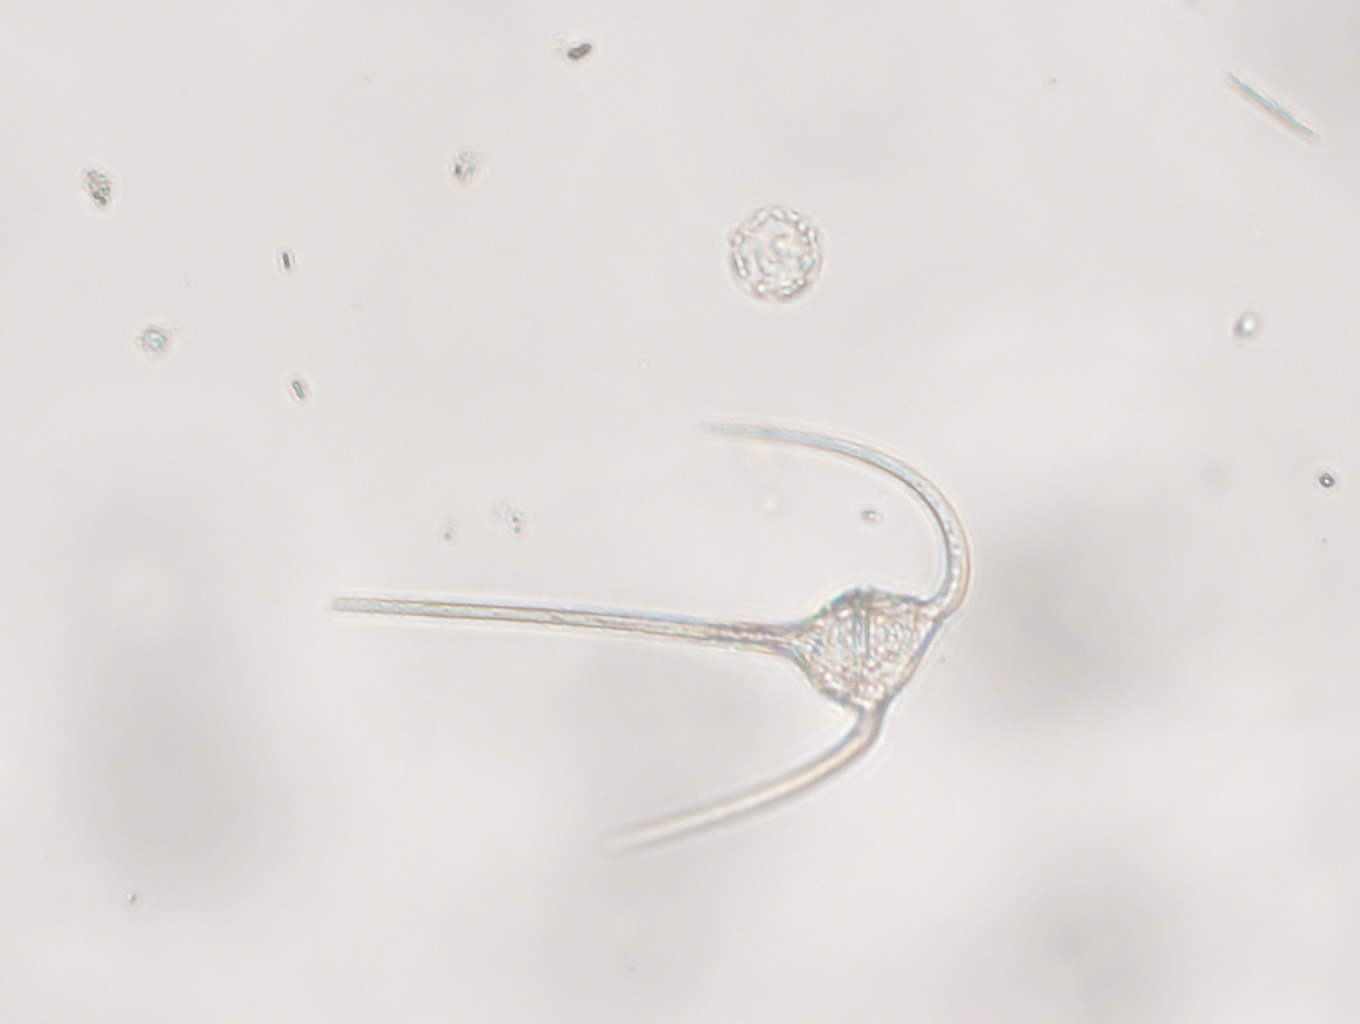ceratium trichoceros: (331, 423, 972, 852)
